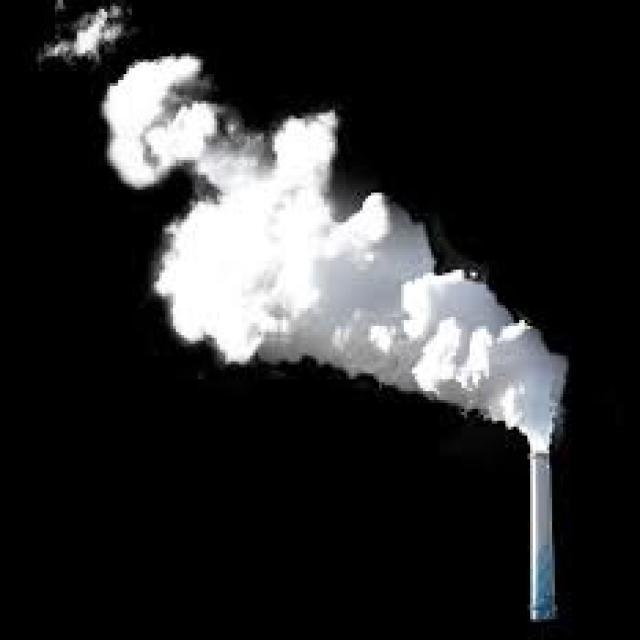Smoke: (36, 0, 566, 453)
